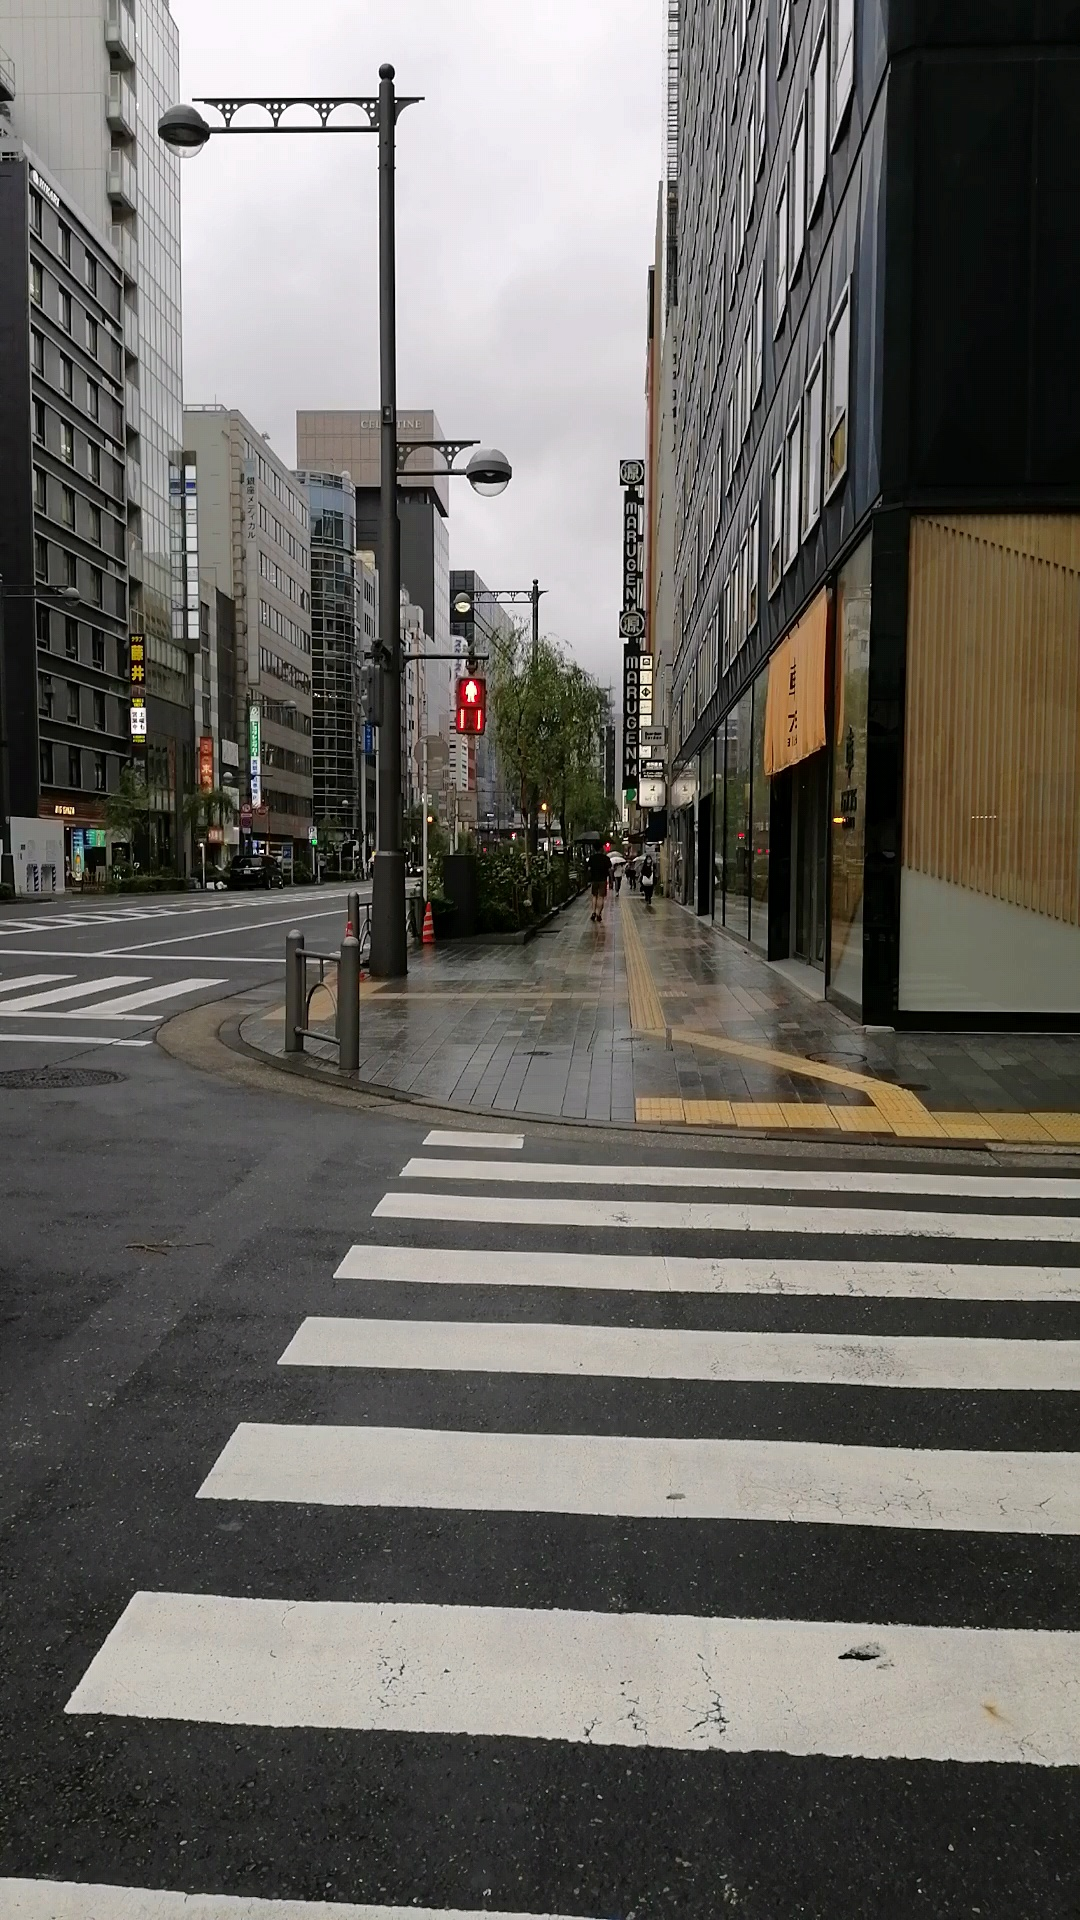red: (454, 675, 487, 735)
